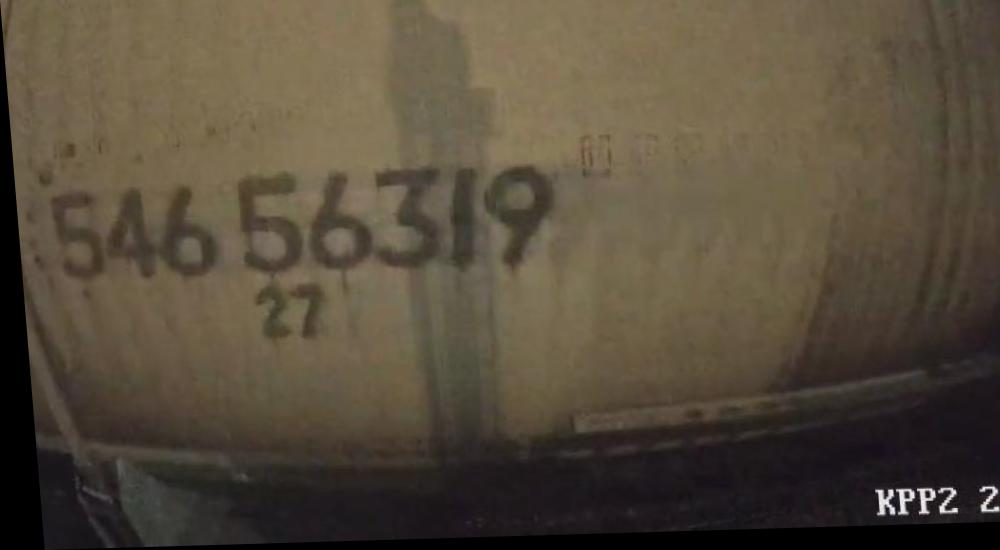Wagon-number: (41, 161, 559, 286)
